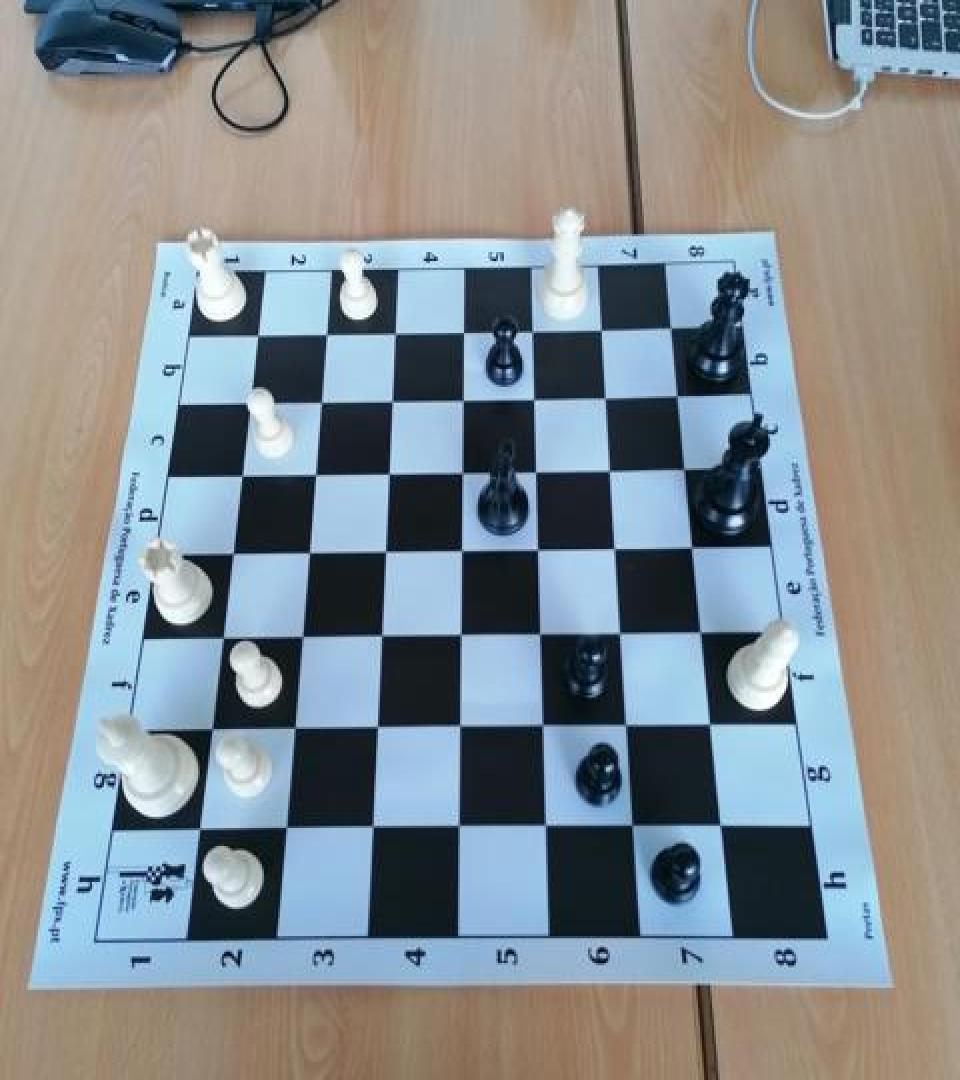xcorner: (515, 314, 545, 348), (445, 316, 475, 350), (376, 317, 406, 351), (239, 320, 269, 354), (662, 379, 692, 413), (589, 381, 619, 415), (517, 382, 547, 416), (445, 384, 475, 418), (373, 386, 403, 420), (302, 387, 332, 421), (231, 389, 261, 423), (669, 453, 699, 487), (594, 454, 624, 488), (444, 458, 474, 492), (370, 459, 400, 493), (296, 460, 326, 494), (223, 462, 253, 496), (677, 533, 707, 567), (599, 534, 629, 568), (521, 536, 551, 570), (443, 536, 473, 570), (367, 538, 397, 572), (290, 539, 320, 573), (214, 540, 244, 574), (686, 618, 716, 652), (604, 620, 634, 654), (523, 621, 553, 655), (443, 622, 473, 656), (363, 623, 393, 657), (284, 624, 314, 658), (205, 626, 235, 660), (695, 712, 725, 746), (610, 713, 640, 747), (526, 713, 556, 747), (442, 714, 472, 748), (194, 716, 224, 750), (705, 813, 735, 847), (616, 813, 646, 847), (528, 813, 558, 847), (441, 814, 471, 848), (355, 814, 385, 848), (269, 814, 299, 848), (183, 816, 213, 850), (655, 311, 685, 344), (585, 312, 615, 345), (307, 320, 337, 353), (519, 457, 549, 490), (359, 716, 389, 749), (276, 716, 306, 749)
